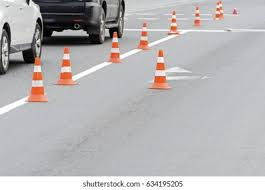car: (30, 1, 124, 38), (1, 1, 42, 74)
cone: (27, 57, 49, 103), (147, 50, 172, 89), (54, 48, 79, 86), (107, 31, 123, 63), (137, 22, 151, 49), (168, 11, 180, 36), (192, 7, 203, 29), (215, 1, 224, 22)
